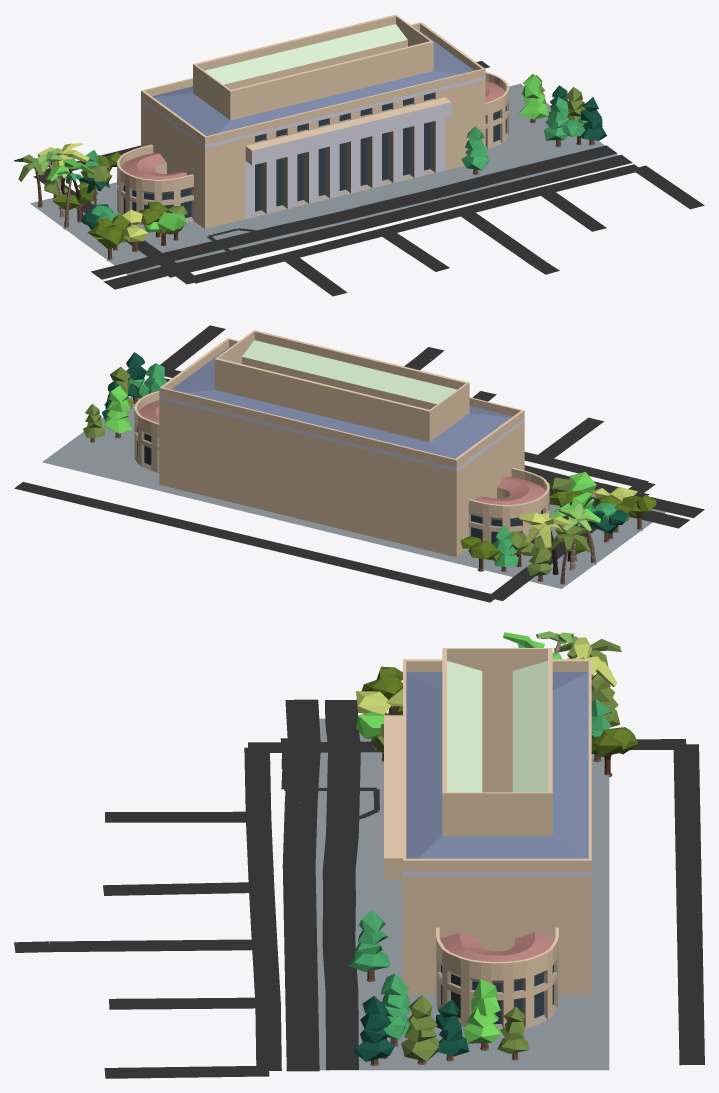
The model's file is PY_Env1.fbx.
3 renders of one model, top to bottom at view 1: azimuth 30°, elevation 25°; view 2: azimuth 150°, elevation 25°; view 3: azimuth 270°, elevation 25°, orthographic. The views are drawn at different scales.
Parts seen in each view (by area): view 1: PY_Env1; view 2: PY_Env1; view 3: PY_Env1.
Part boxes in pixels (bbox=[...]): PY_Env1: bbox=[14, 14, 704, 296]; PY_Env1: bbox=[14, 325, 704, 602]; PY_Env1: bbox=[14, 631, 704, 1078].
Bounding box in the file's own units: 8626 × 1870 × 6643.
